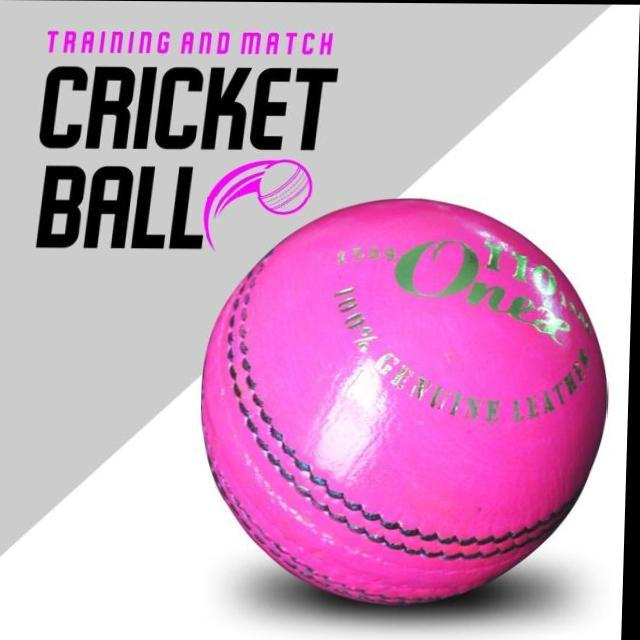cricket ball: (205, 198, 610, 604)
